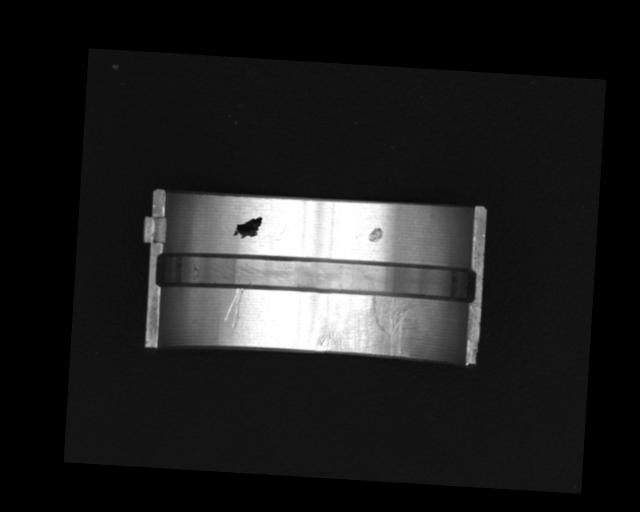blot: (233, 215, 263, 240)
bruise: (367, 225, 384, 243)
gap: (153, 247, 478, 304)
nick: (224, 287, 243, 330)
scratch: (316, 292, 424, 359)
